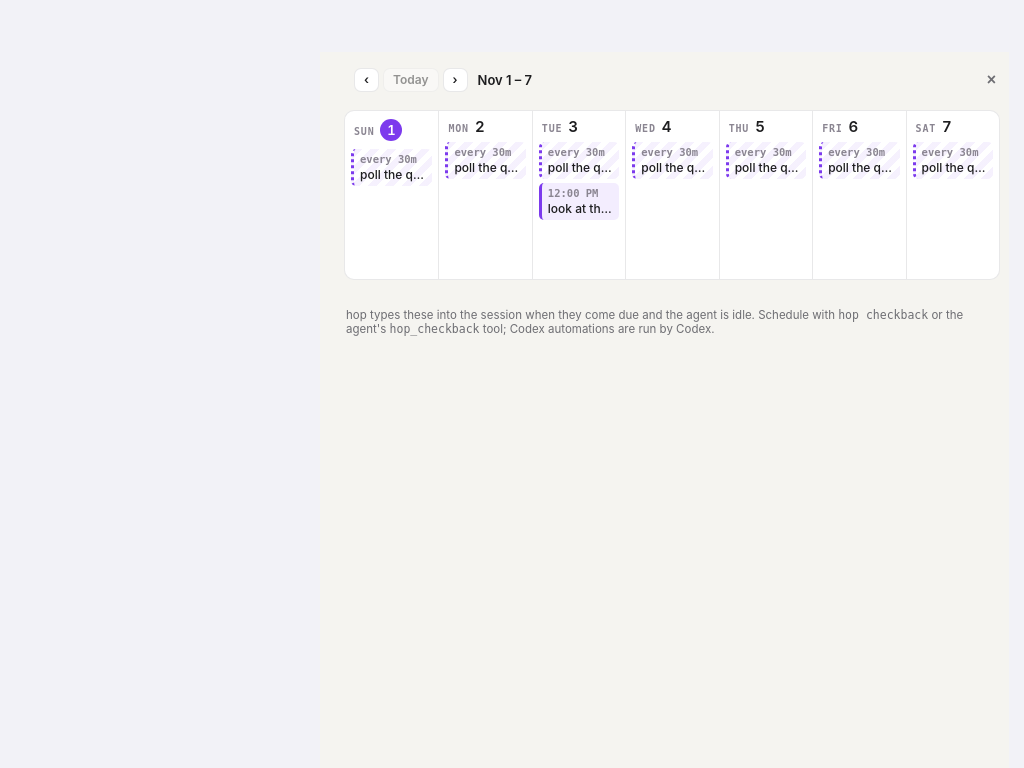
Scenario: CheckbacksPanel › a week of days: entries on theirs, a fast repeat as a band, ← → a week, picking one reads it
expect the cell with class "cal-day" shows "look at the run": met, box [539, 183, 619, 220]
Click the text "look at the run" at (580, 209), box [548, 201, 613, 216]
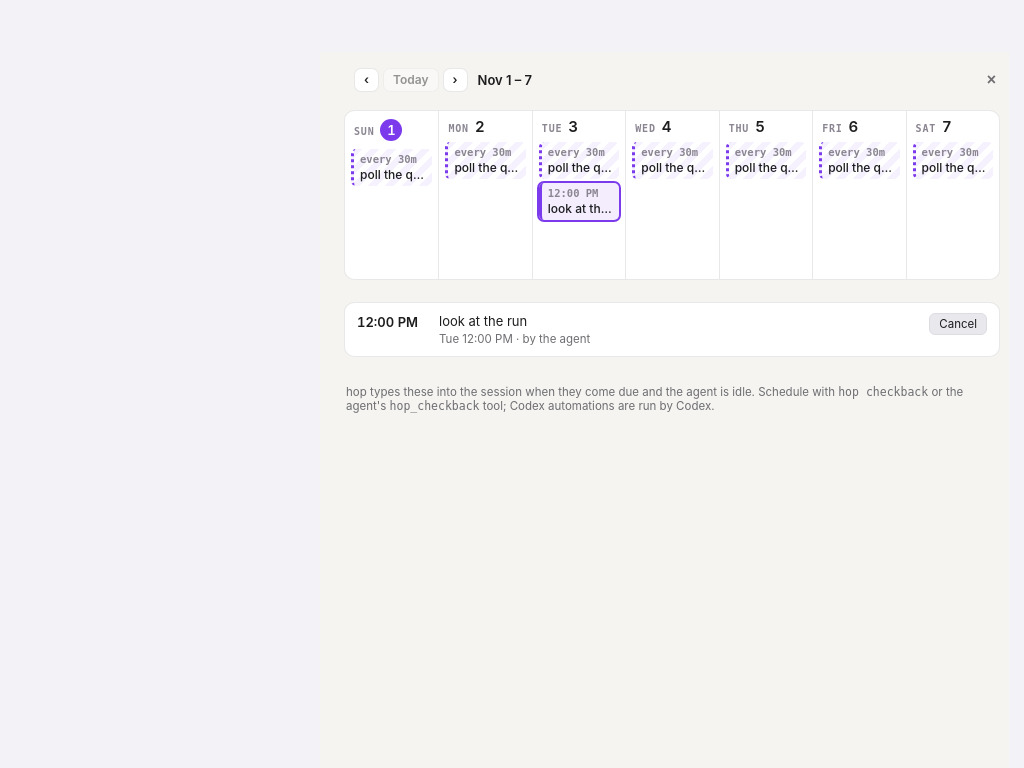
expect the element with class "cal-detail" shows "by the agent": met, box [344, 302, 1000, 357]
Press Escape
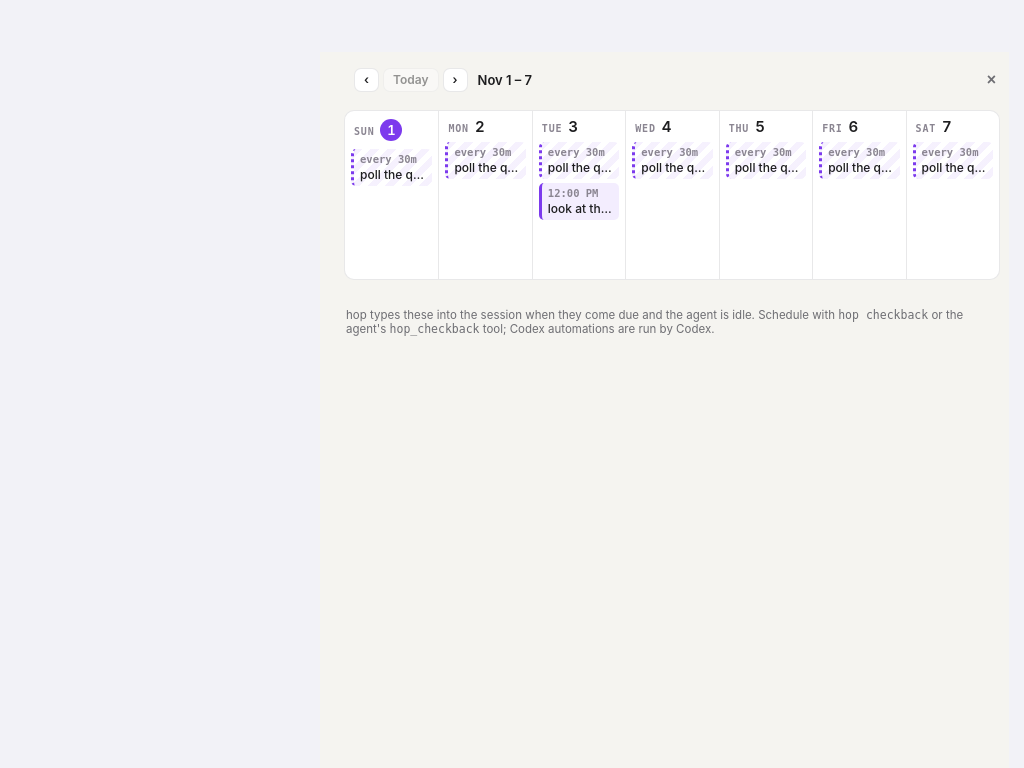
expect the element with class "cal-detail" is gone: met
Press ArrowRight
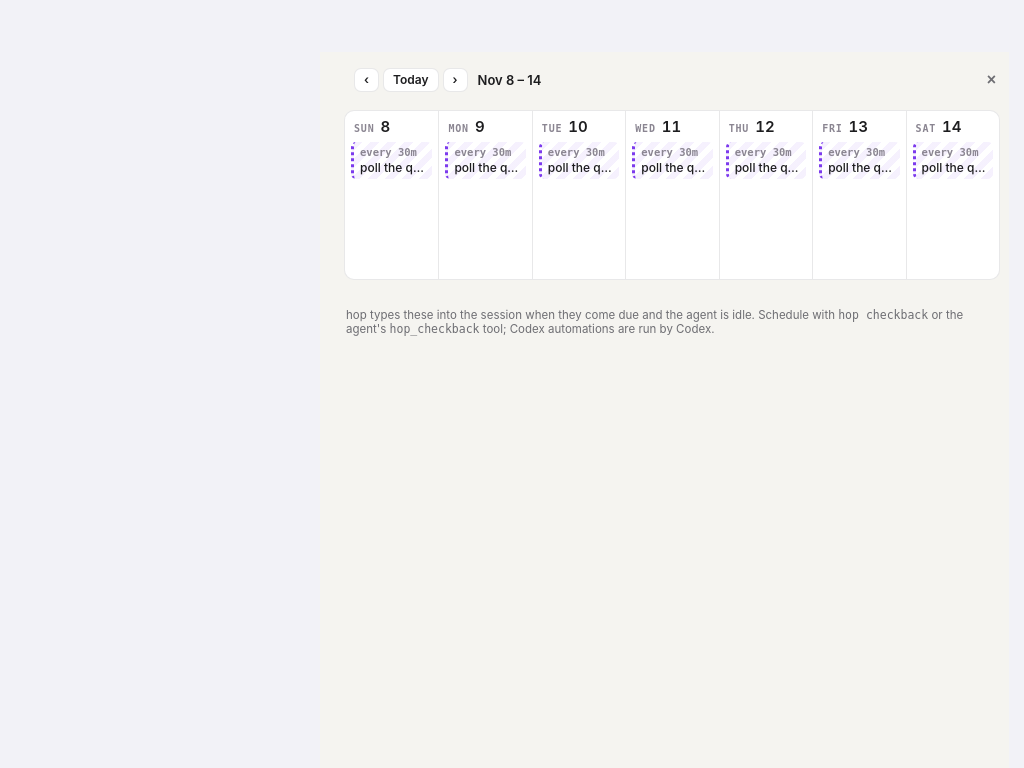
expect the button "look at the run" is gone: met
Click the button "Today" at (411, 80), box [383, 68, 438, 92]
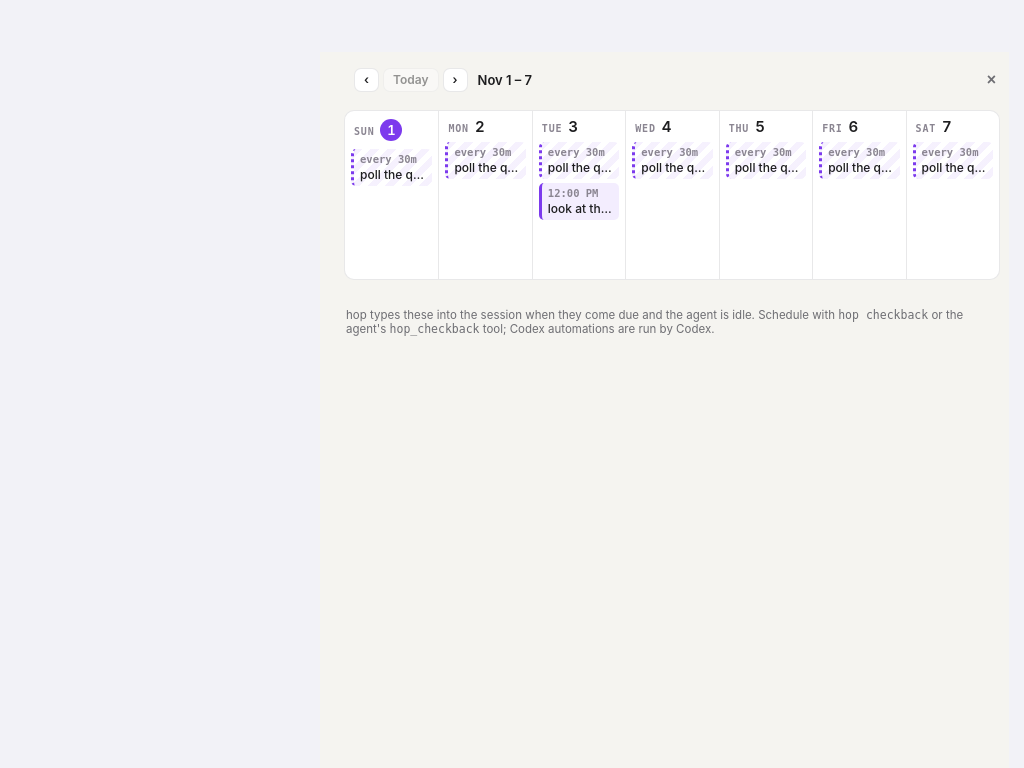
expect the text "look at the run" is shown: met, box [548, 201, 613, 216]
